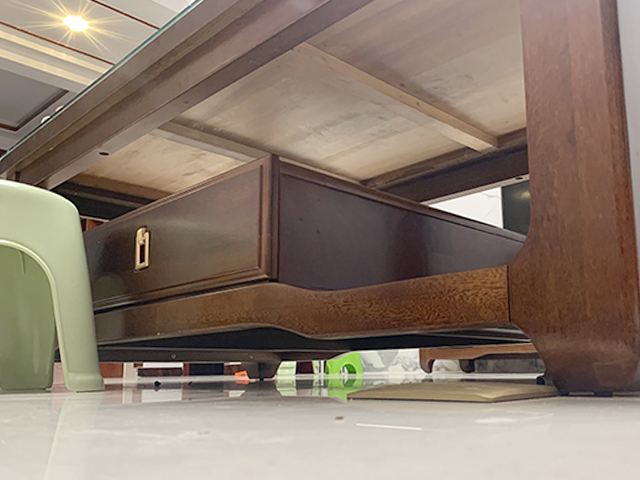stool: (1, 177, 107, 393), (324, 352, 364, 376)
table: (1, 1, 640, 398)
